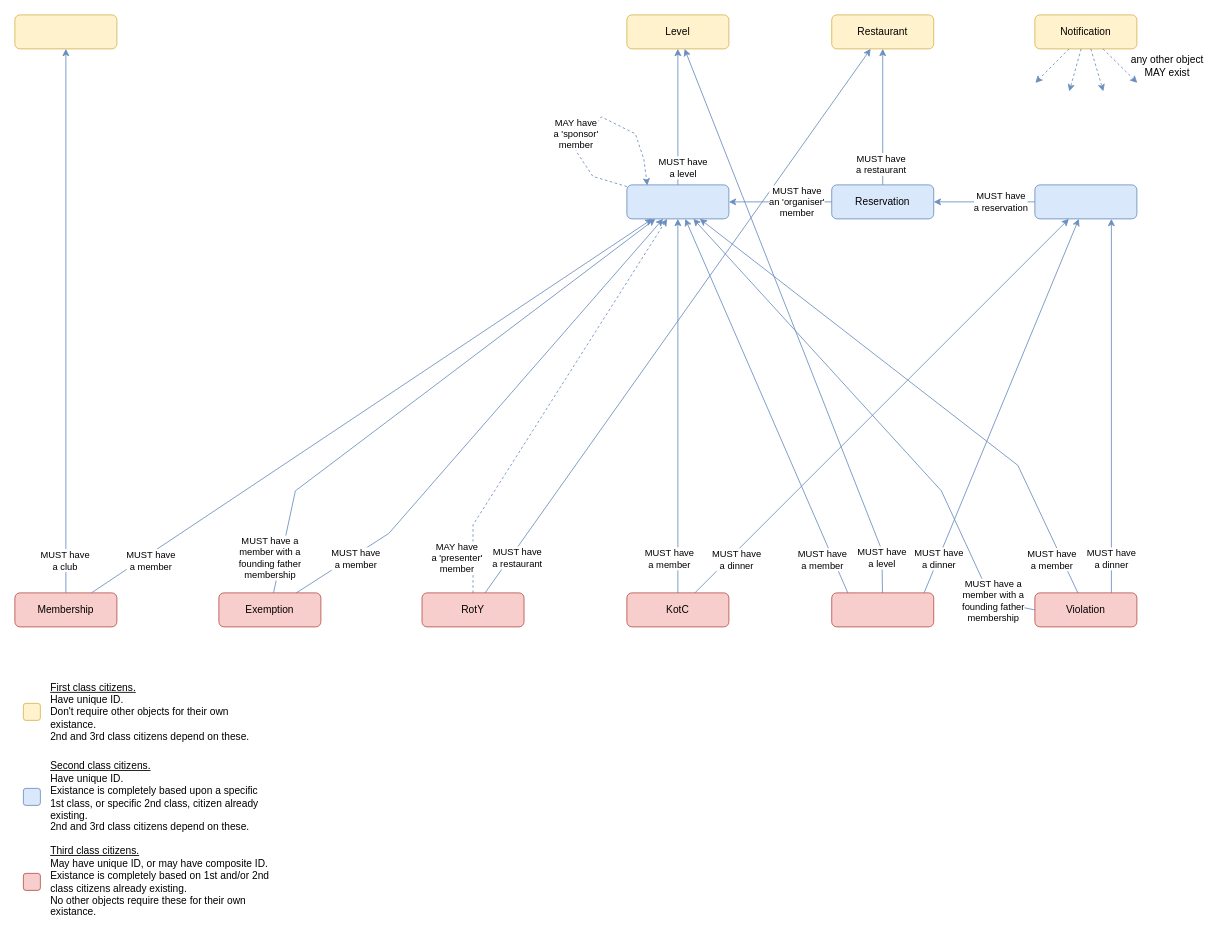
The diagram is 1220 pixels wide and 948 high, and some of its shapes have lost their labels. The box of each missing label's shape, as (x1, y1, x2, y2) in pixels:
Attendees: (831, 592, 934, 627)
Club: (14, 14, 117, 49)
Dinner: (1034, 184, 1137, 219)
Member: (626, 184, 729, 219)
